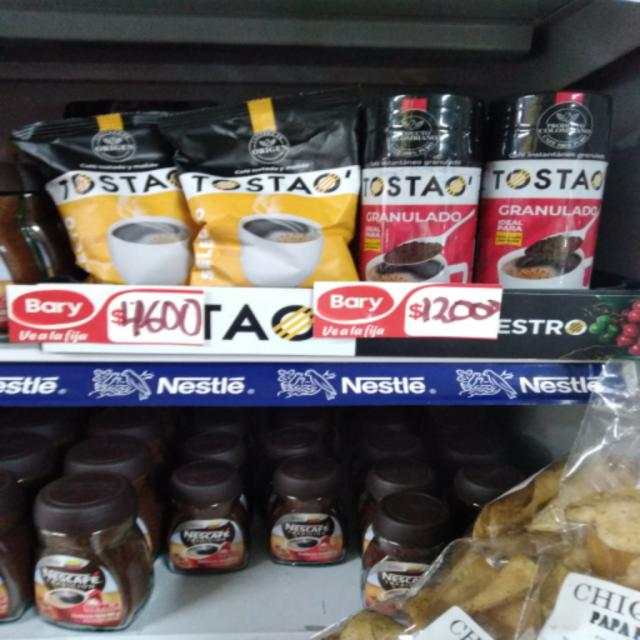Cafe_tostado: (177, 90, 360, 285), (17, 109, 198, 291)
Granulado_tostado: (470, 91, 619, 294), (357, 91, 477, 285)
Precio: (100, 287, 207, 346), (403, 287, 503, 338)
